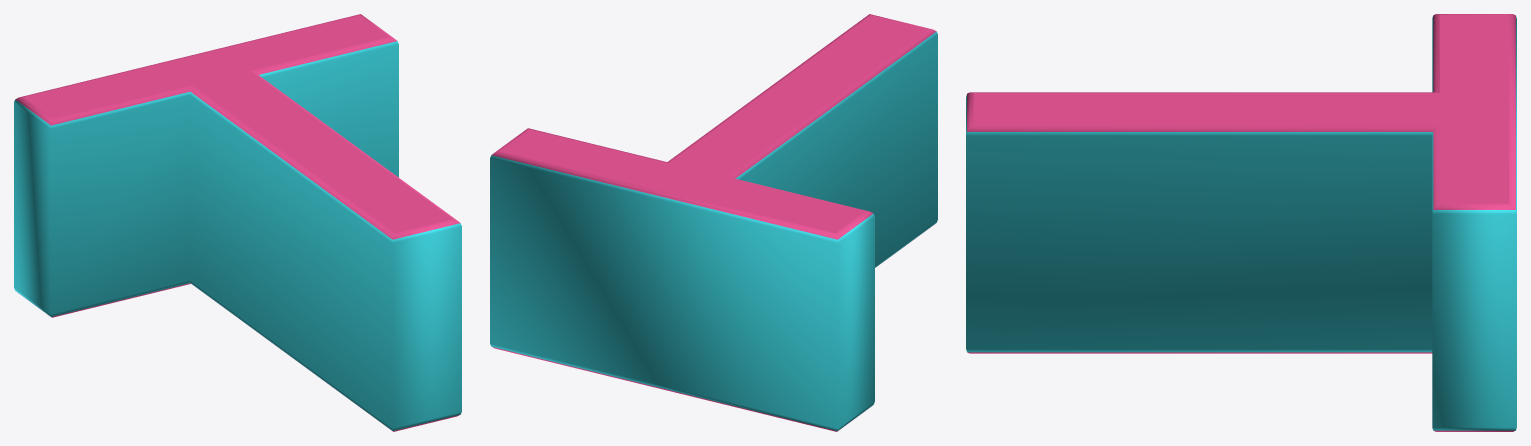
File: letter_T.fbx
3 views of the same model, side by side, from view 1: azimuth 30°, elevation 25°; view 2: azimuth 150°, elevation 25°; view 3: azimuth 270°, elevation 25° (orthographic). The views are drawn at different scales.
Parts seen in each view (by area): view 1: Letter_T; view 2: Letter_T; view 3: Letter_T.
Part boxes in pixels (x1,y1,x2,y2): Letter_T: [14, 14, 461, 431]; Letter_T: [490, 14, 937, 431]; Letter_T: [966, 14, 1516, 431].
Size of the model in its own units: 59 by 32 by 70.2.
